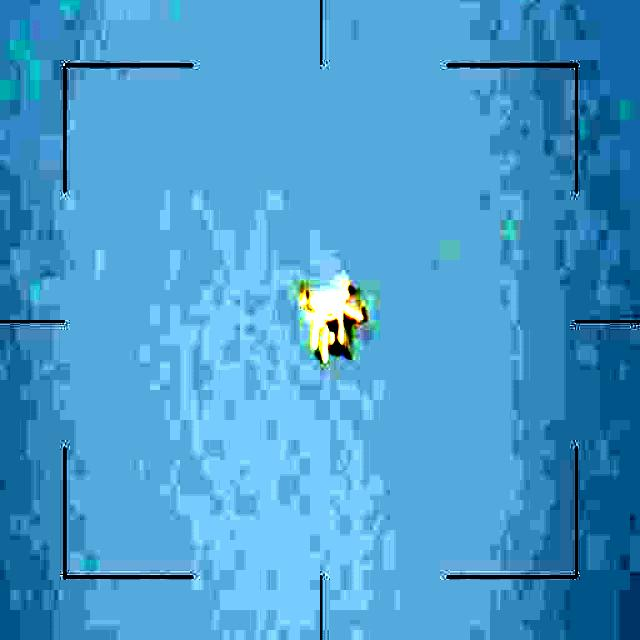bird: (291, 279, 375, 368)
